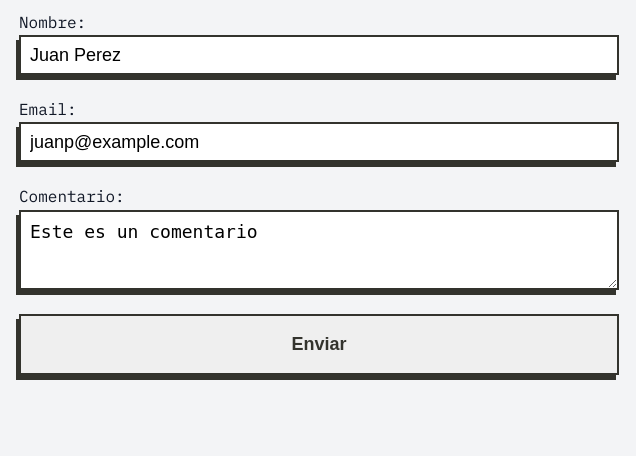
Test: Form.vue › debe mostrar el mensaje de éxito cuando los campos están llenos
Click the button "Enviar" at [319, 344], box [19, 314, 619, 375]
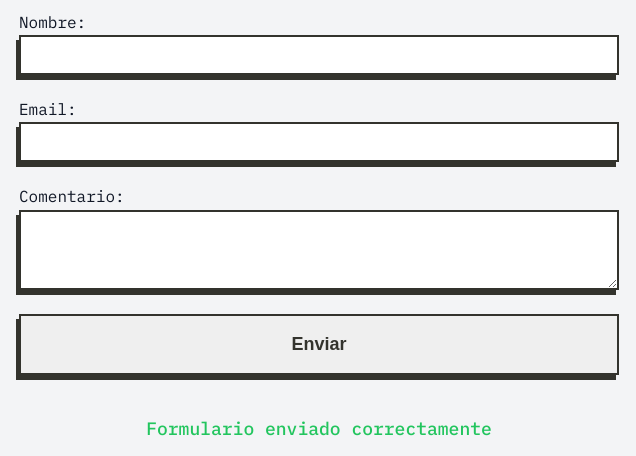
Expected: the text "Formulario enviado correctamente" is shown, [146, 417, 492, 440]
